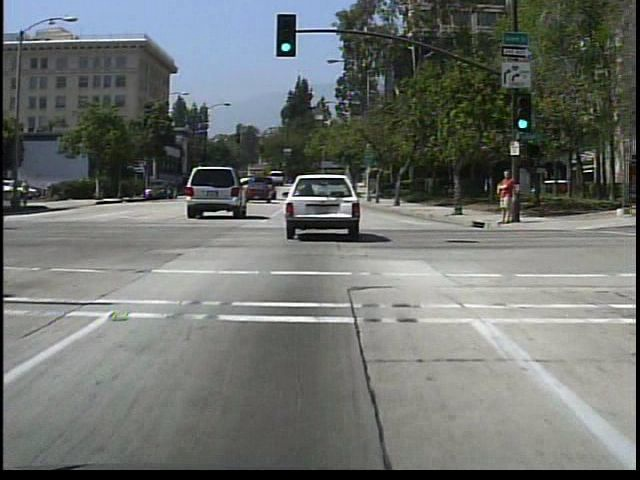person: (490, 167, 518, 227), (10, 177, 21, 209), (21, 178, 33, 207)
